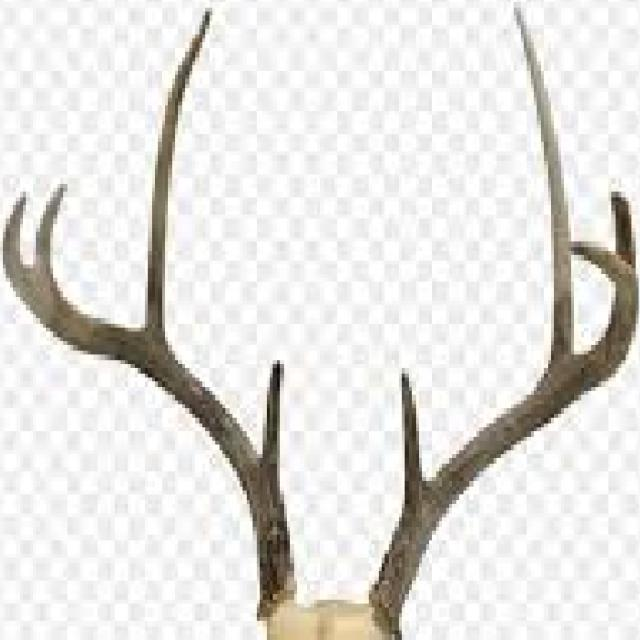L-F: (368, 240, 640, 639)
L-G2: (512, 4, 574, 367)
L-G5: (398, 368, 426, 507)
R-F: (2, 192, 297, 622)
R-G1: (261, 359, 286, 490)
R-G2: (140, 4, 214, 343)
R-G3: (34, 181, 69, 283)
